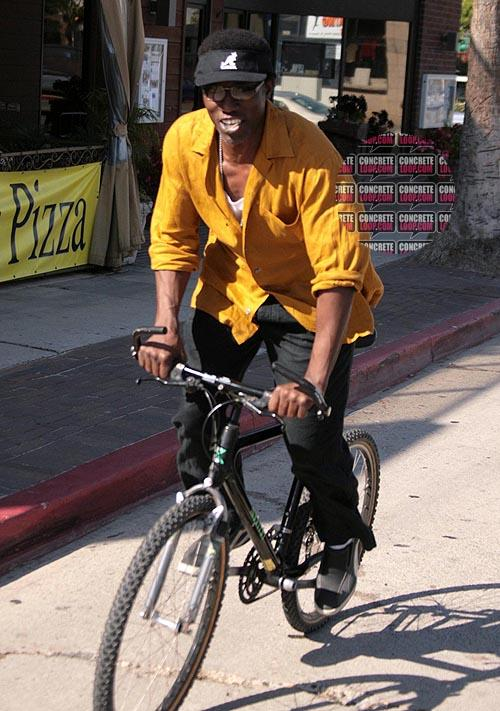person: (142, 29, 378, 623)
